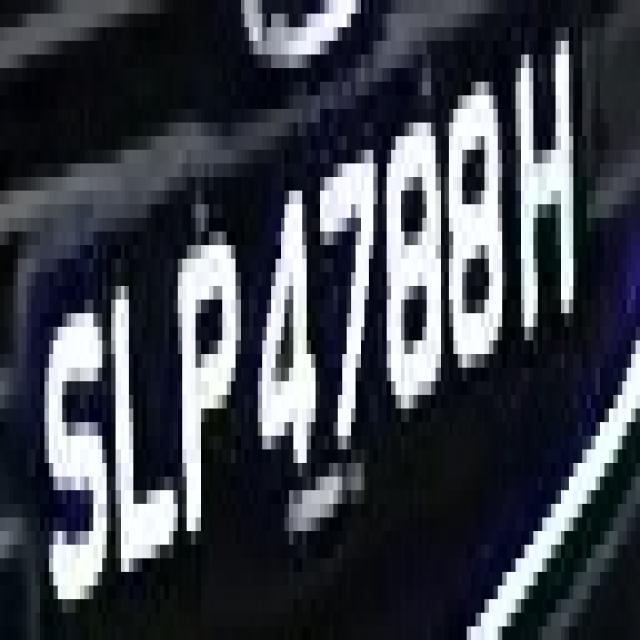4: (244, 150, 320, 531)
7: (307, 122, 382, 518)
8: (369, 95, 449, 477), (431, 54, 511, 408)
H: (511, 14, 596, 368)
L: (98, 204, 173, 626)
P: (164, 190, 249, 586)
S: (35, 258, 111, 640)
